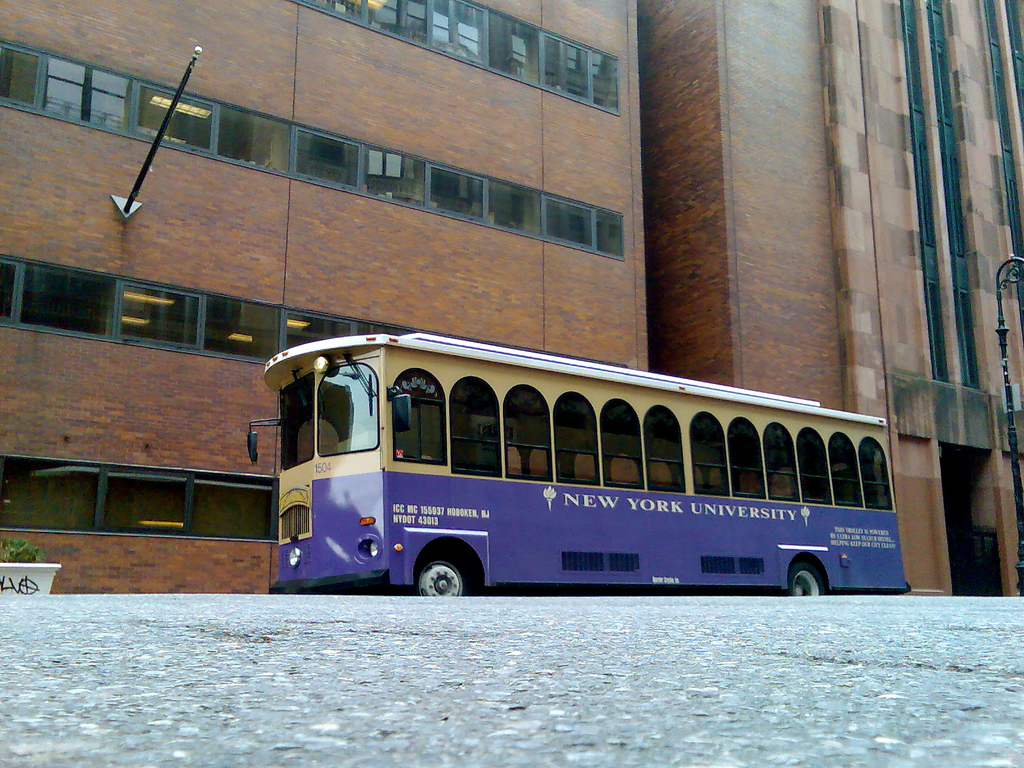Bus: (246, 330, 909, 597)
